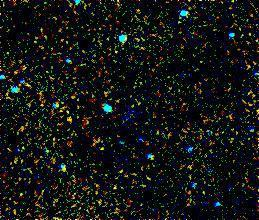star: (54, 102, 84, 132)
